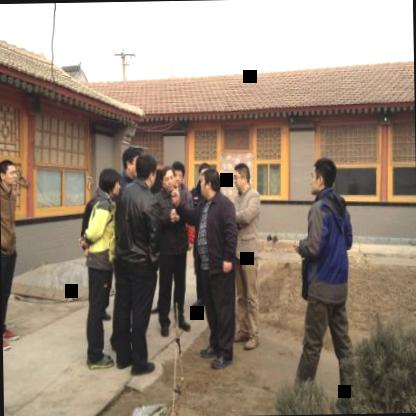head: (310, 152, 338, 196), (198, 164, 222, 202), (134, 152, 157, 190), (98, 166, 122, 202), (0, 156, 20, 192), (118, 142, 139, 176), (231, 160, 252, 194), (159, 164, 174, 192)
